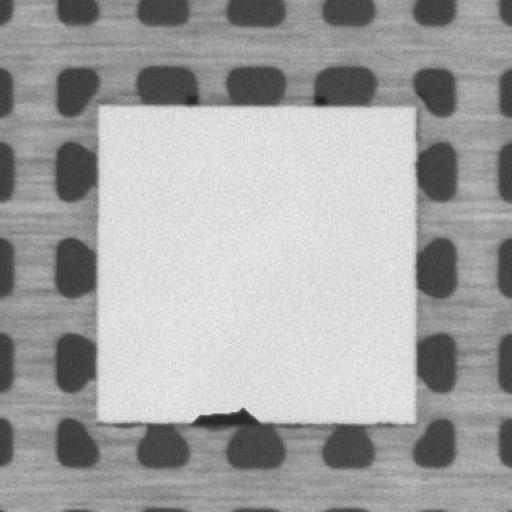DIE_BROKEN: (182, 405, 264, 424)
